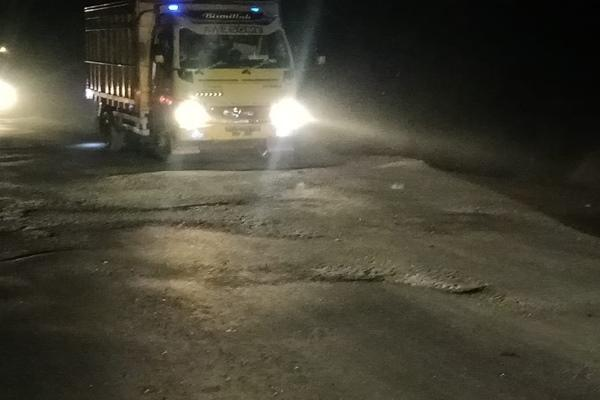Pothole: (84, 159, 502, 362)
